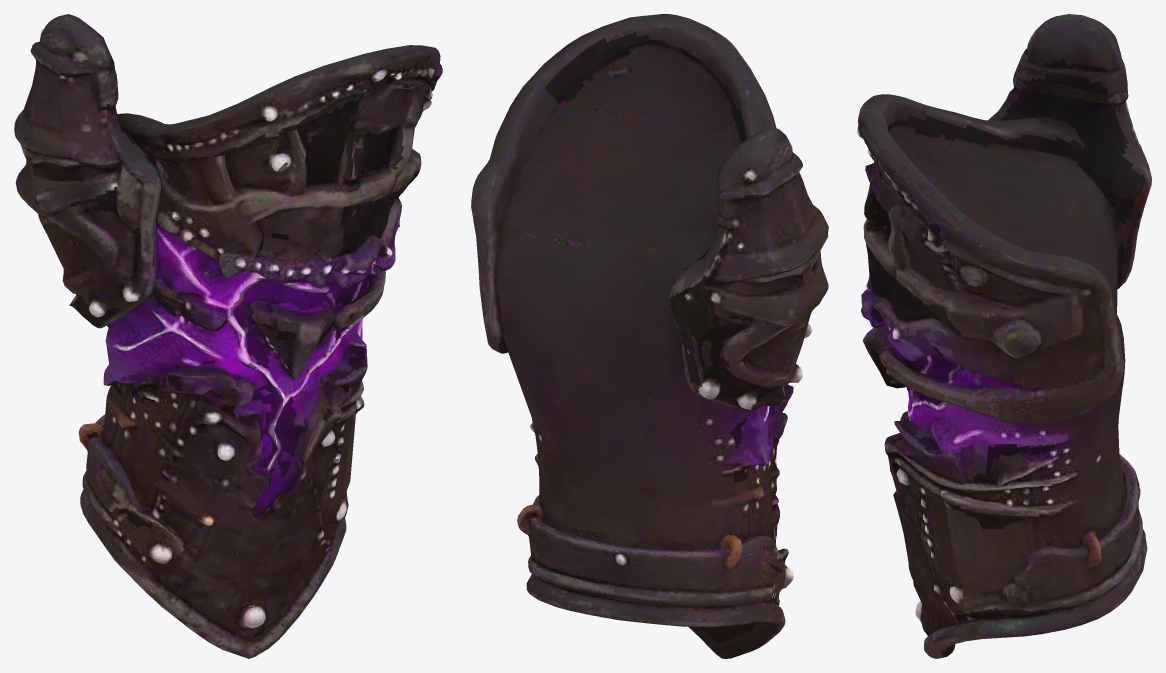
The model's file is tecelao-bracal.glb.
The picture shows the model from 3 angles, left to right: view 1: azimuth 30°, elevation 25°; view 2: azimuth 150°, elevation 25°; view 3: azimuth 270°, elevation 25°; orthographic projection. The views are drawn at different scales.
Parts seen in each view (by area): view 1: tripo_node_bbfe0292-645a-4d9e-8093-b9f41773dfc9; view 2: tripo_node_bbfe0292-645a-4d9e-8093-b9f41773dfc9; view 3: tripo_node_bbfe0292-645a-4d9e-8093-b9f41773dfc9.
Part boxes in pixels (x1,y1,x2,y2): tripo_node_bbfe0292-645a-4d9e-8093-b9f41773dfc9: (14,14,442,658); tripo_node_bbfe0292-645a-4d9e-8093-b9f41773dfc9: (471,14,828,658); tripo_node_bbfe0292-645a-4d9e-8093-b9f41773dfc9: (857,14,1151,658).
Bounding box in the file's own units: 0.6019 × 0.9792 × 0.4436.
Materials: 1 (1 with a texture image).
